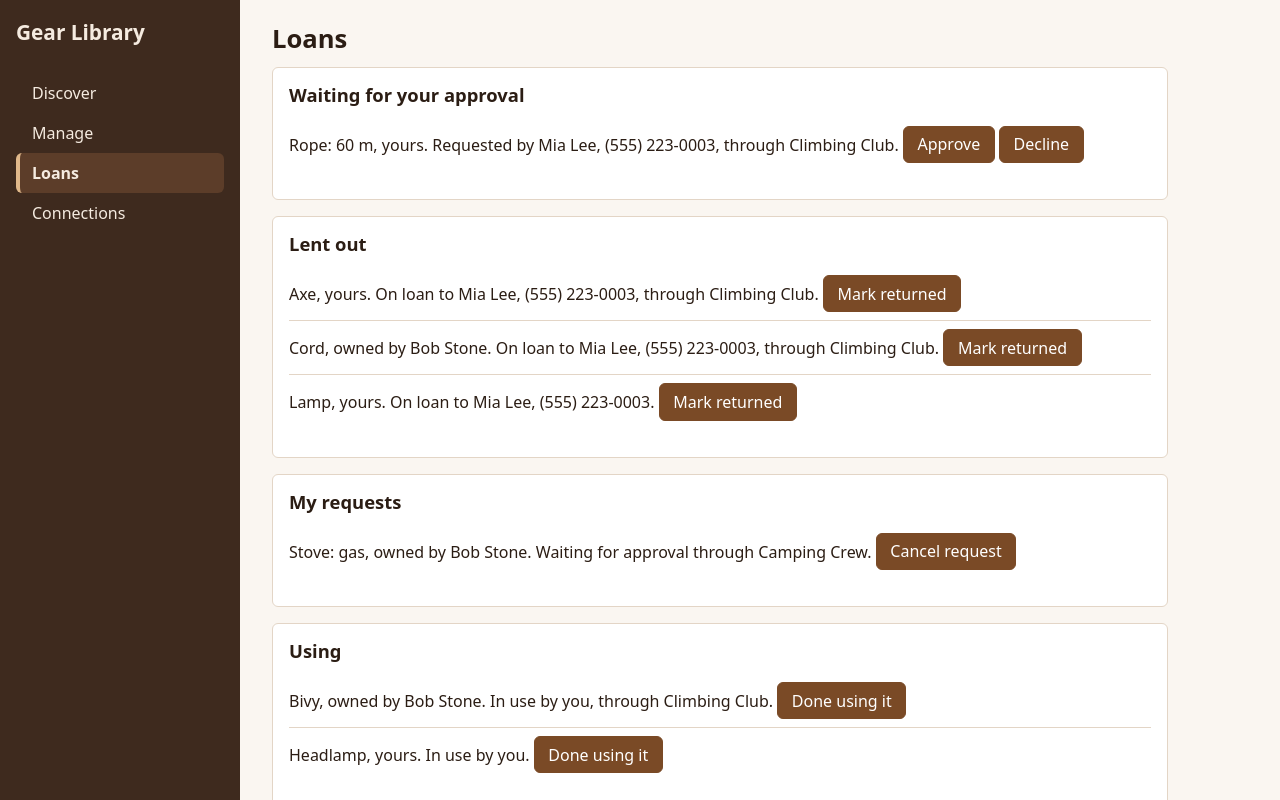
Test: my requests and borrowed › cancels a pending request and reloads
Expected: the heading "Loans" is shown, [272, 21, 347, 56]
Click the button with aria-label "Cancel request: Stove" at (946, 551), box [876, 533, 1016, 570]
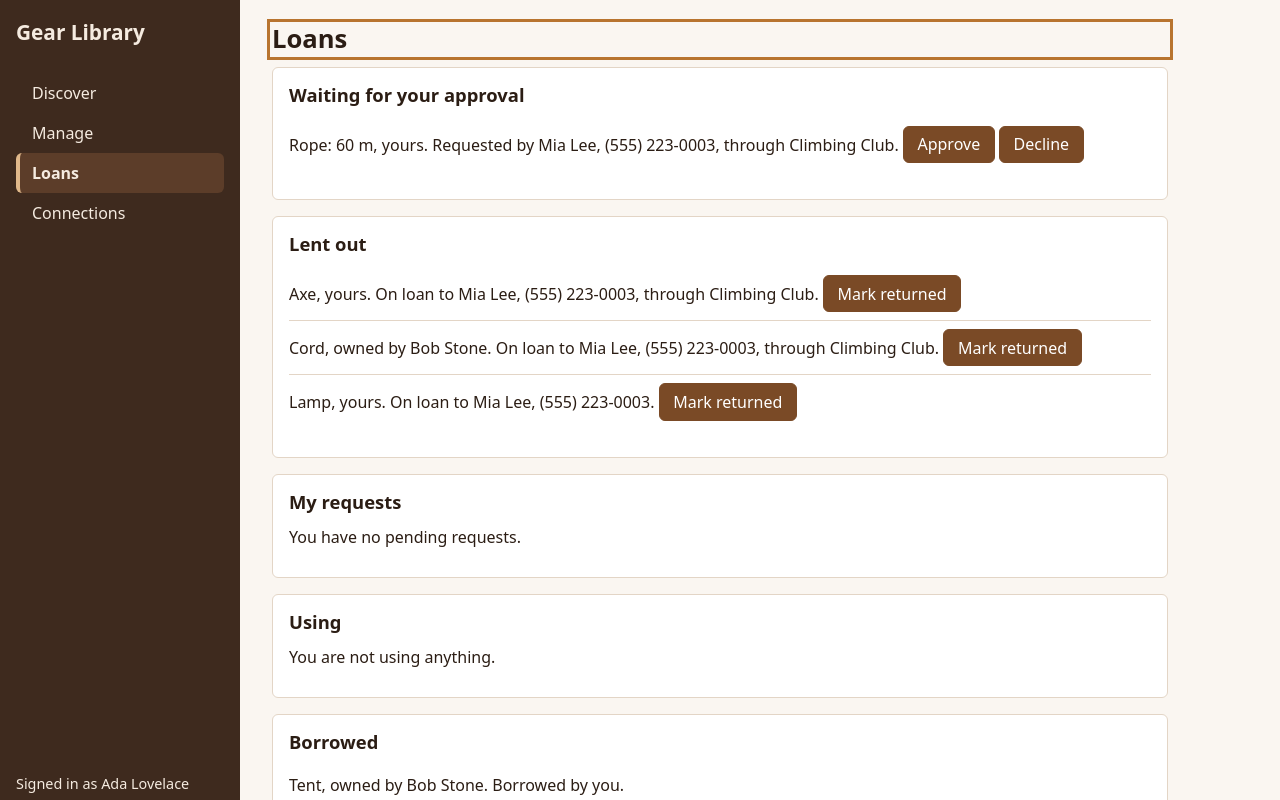
Expected: the text "You have no pending requests." is shown, [289, 526, 521, 548]
